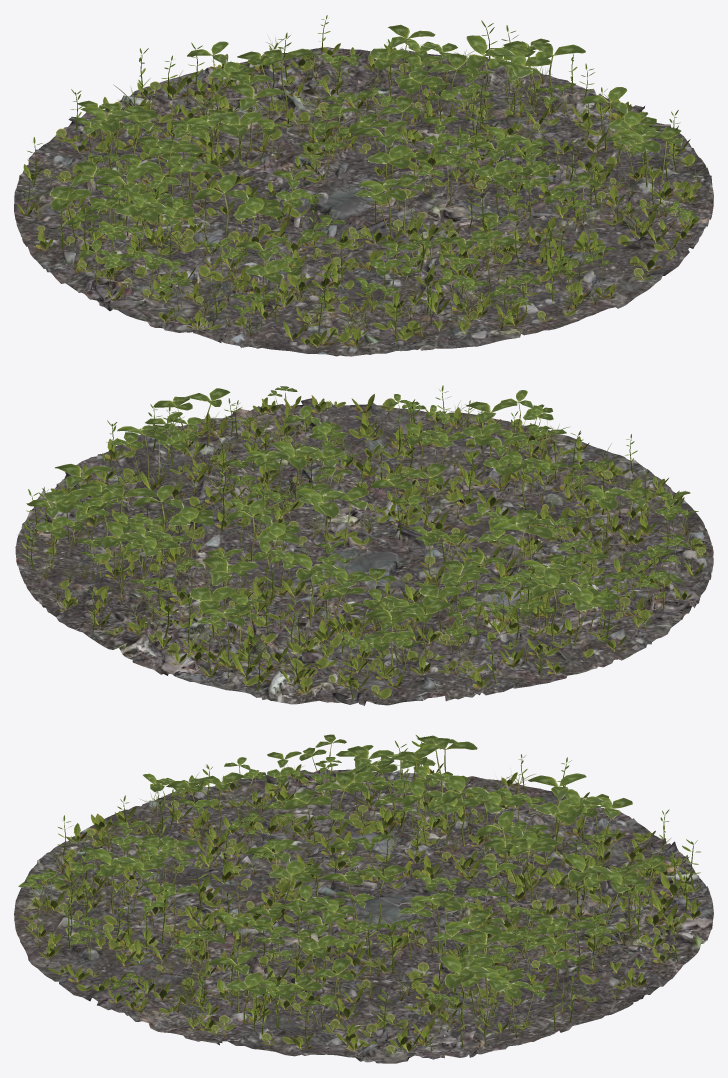
Rendered from clover_scene.glb.
3 renders of one model, top to bottom at view 1: azimuth 30°, elevation 25°; view 2: azimuth 150°, elevation 25°; view 3: azimuth 270°, elevation 25°, orthographic.
Parts seen in each view (by area): view 1: ground_close_07_ground_close_07_0, Forest002_Material #25_0, Forest001_clover_spring_0, Forest001_clover_spring_0.001; view 2: ground_close_07_ground_close_07_0, Forest002_Material #25_0, Forest001_clover_spring_0, Forest001_clover_spring_0.001; view 3: ground_close_07_ground_close_07_0, Forest002_Material #25_0, Forest001_clover_spring_0, Forest001_clover_spring_0.001.
Part boxes in pixels (<box>): ground_close_07_ground_close_07_0: <box>14,47,713,356</box>; Forest002_Material #25_0: <box>17,15,706,347</box>; Forest001_clover_spring_0: <box>49,24,698,315</box>; Forest001_clover_spring_0.001: <box>67,41,687,331</box>; ground_close_07_ground_close_07_0: <box>15,398,713,705</box>; Forest002_Material #25_0: <box>20,385,710,699</box>; Forest001_clover_spring_0: <box>27,386,698,652</box>; Forest001_clover_spring_0.001: <box>51,392,686,678</box>; ground_close_07_ground_close_07_0: <box>14,769,713,1063</box>; Forest002_Material #25_0: <box>20,735,701,1054</box>; Forest001_clover_spring_0: <box>18,734,666,1010</box>; Forest001_clover_spring_0.001: <box>31,743,652,1031</box>.
Size of the model in its own units: 30.59 by 3.99 by 30.59.
Materials: 3 (3 with a texture image).
